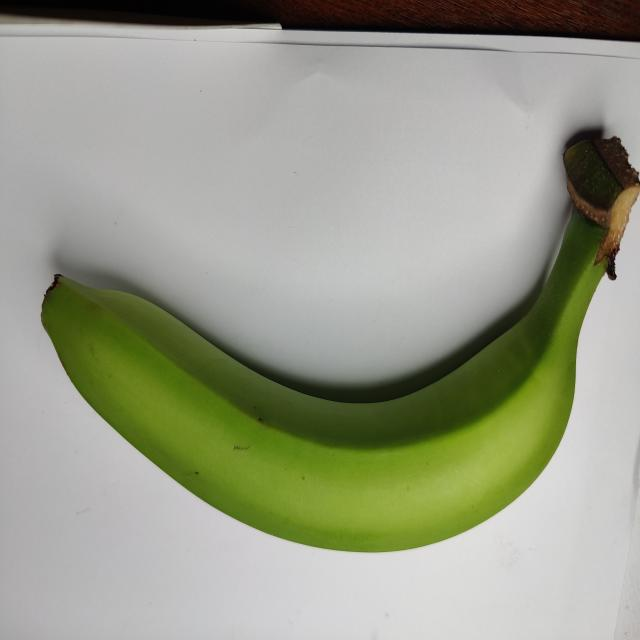raw: (22, 75, 640, 570)
